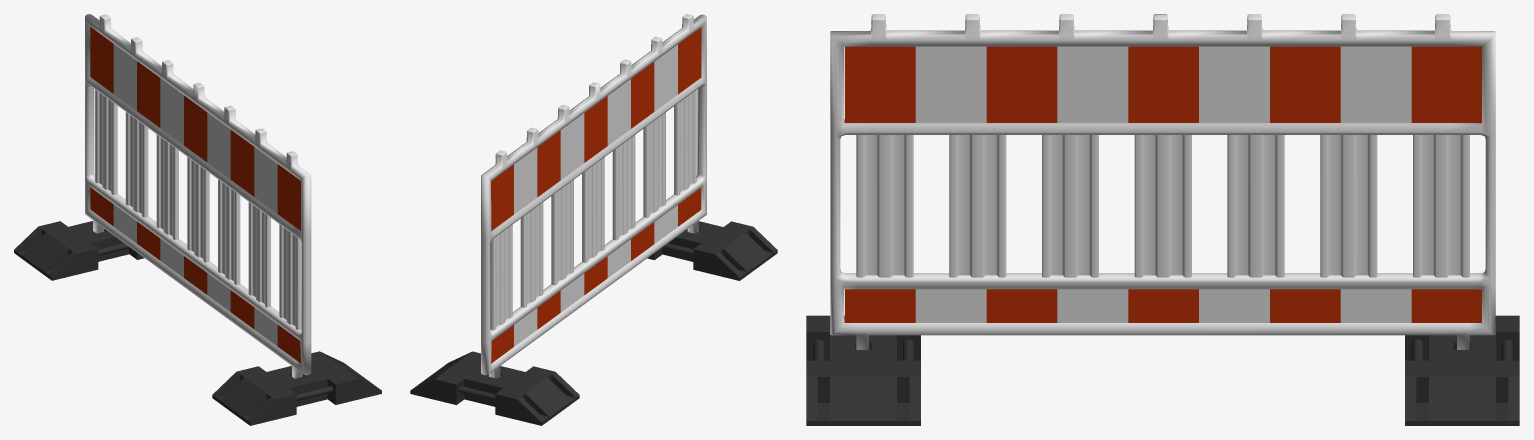
File: Bauzaun.fbx
The picture shows the model from 3 angles, left to right: view 1: azimuth 30°, elevation 25°; view 2: azimuth 150°, elevation 25°; view 3: azimuth 270°, elevation 25°; orthographic projection. The views are drawn at different scales.
Parts seen in each view (by area): view 1: Bauzaun, Bauzaun_Flat; view 2: Bauzaun, Bauzaun_Flat; view 3: Bauzaun, Bauzaun_Flat.
Part boxes in pixels (box(x1,y1,x2,y2)): Bauzaun: box(85, 14, 311, 378); Bauzaun_Flat: box(14, 27, 381, 425); Bauzaun: box(481, 14, 706, 378); Bauzaun_Flat: box(410, 27, 777, 425); Bauzaun: box(830, 14, 1495, 349); Bauzaun_Flat: box(806, 46, 1519, 425).
Size of the model in its own units: 112 by 194 by 348.
